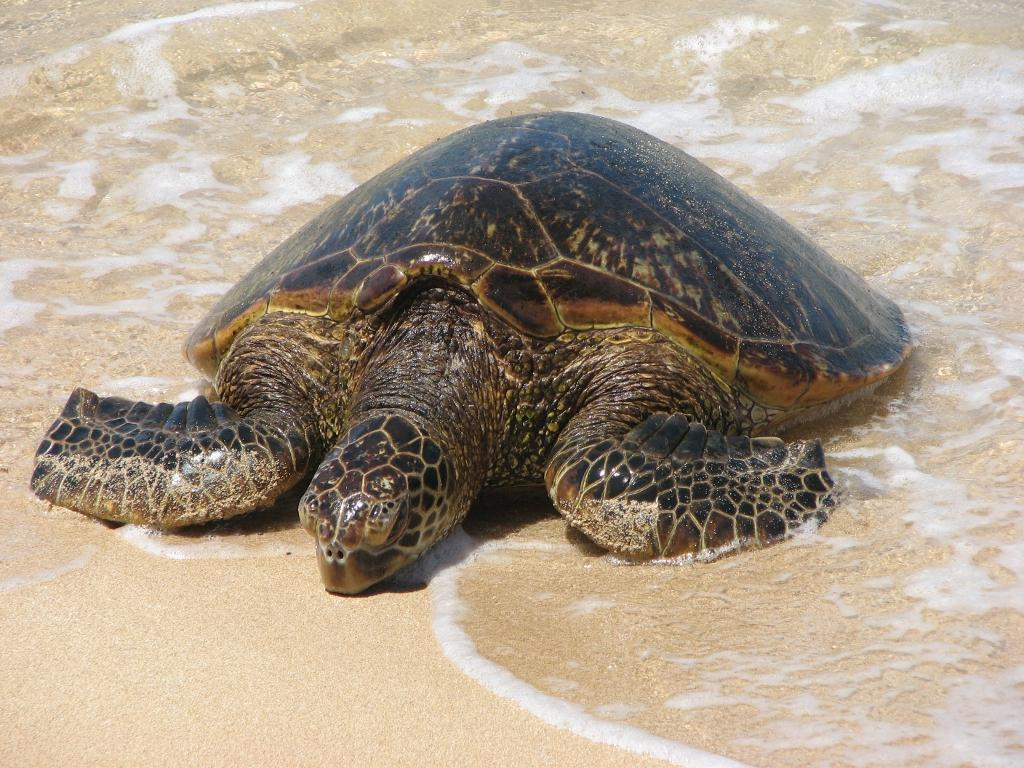turtle: (290, 414, 476, 604)
